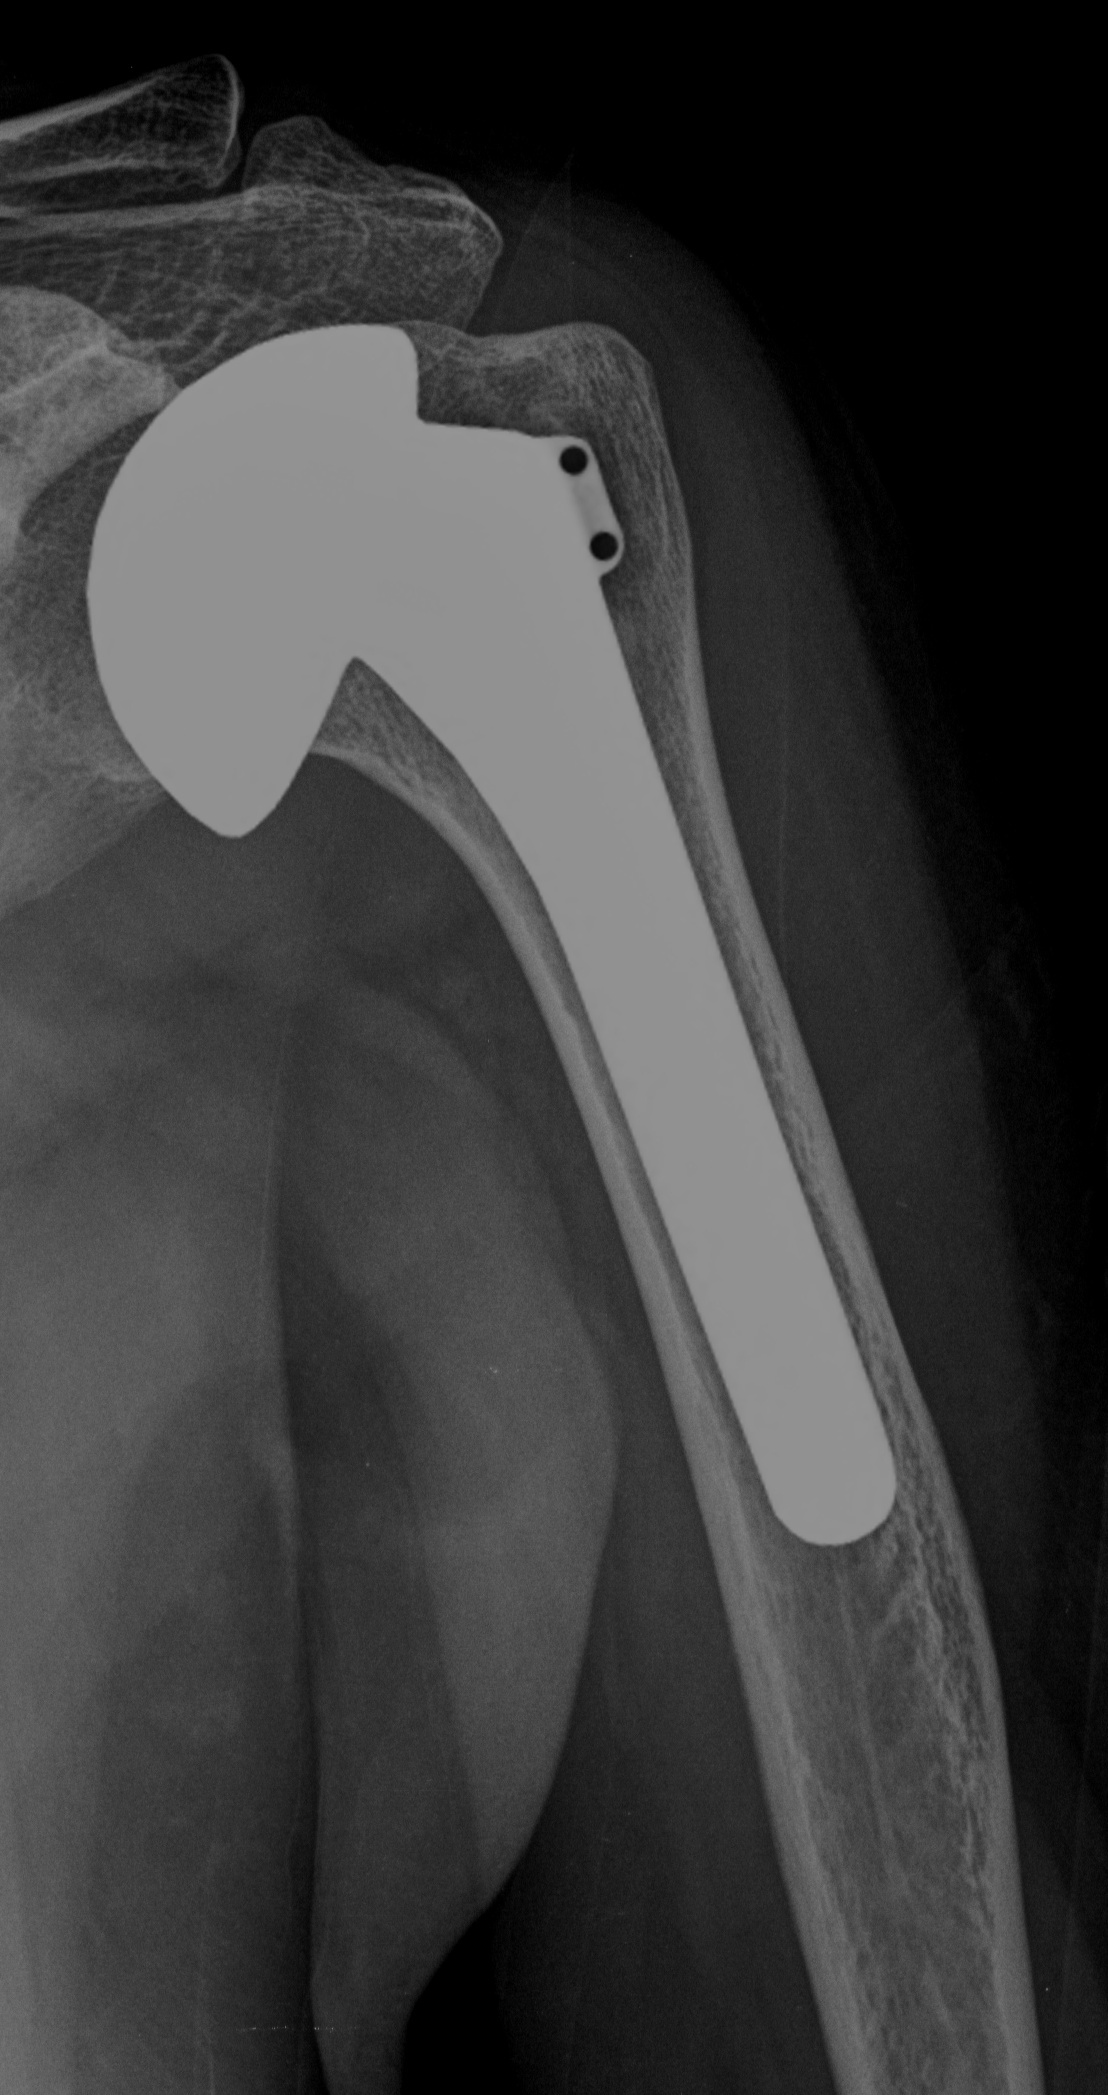Shoulder - AequalisPressfit - Tornier: (60, 317, 625, 840)
